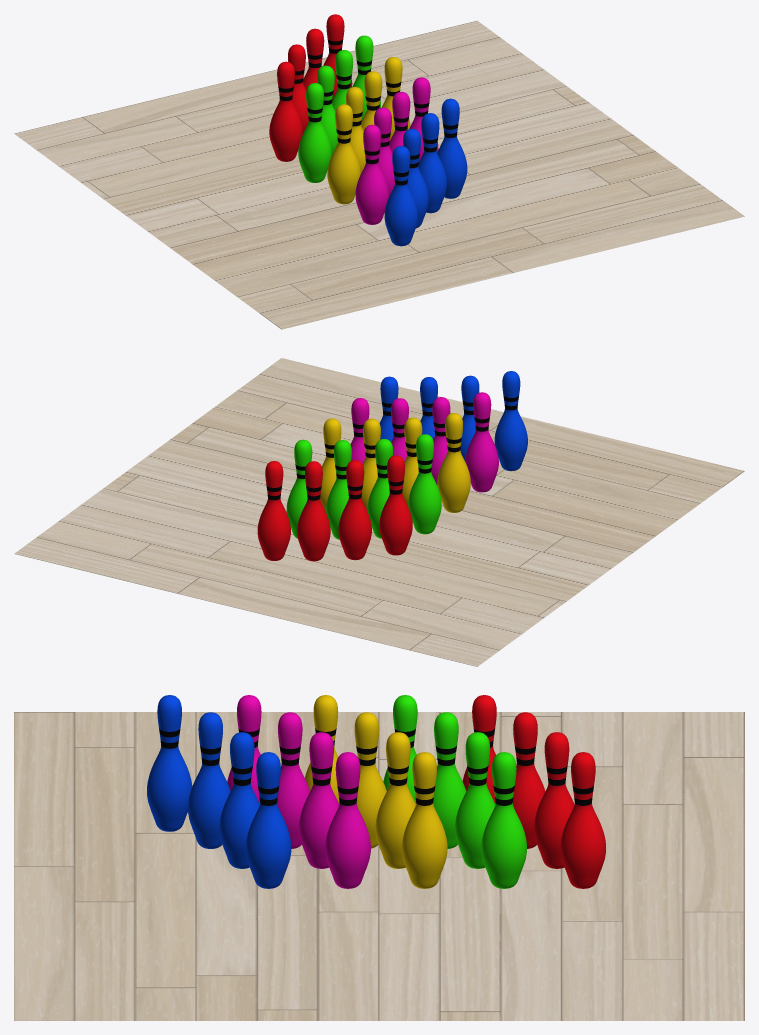
Rendered from colorful-bowling-pin.glb.
3 renders of one model, top to bottom at view 1: azimuth 30°, elevation 25°; view 2: azimuth 150°, elevation 25°; view 3: azimuth 270°, elevation 25°, orthographic. The views are drawn at different scales.
Visible parts, largest first — view 1: Material_014-material, Material_013-material, Material_008-material, Material_011-material, Material_009-material, Material_010-material, Material_013-material_3, Material_013-material_2, Material_013-material_1, Material_009-material_1, Material_011-material_1, Material_008-material_1 (+9 smaller); view 2: Material_014-material, Material_008-material, Material_008-material_3, Material_008-material_1, Material_008-material_2, Material_013-material, Material_009-material, Material_010-material, Material_011-material, Material_009-material_2, Material_009-material_1, Material_009-material_3 (+9 smaller); view 3: Material_014-material, Material_011-material_3, Material_009-material_3, Material_010-material_3, Material_013-material_3, Material_008-material_3, Material_013-material, Material_013-material_1, Material_008-material_2, Material_013-material_2, Material_009-material_2, Material_010-material_2 (+9 smaller).
Part boxes in pixels (x1,y1,x2,y2): Material_014-material: [14, 20, 744, 329]; Material_013-material: [384, 146, 417, 246]; Material_008-material: [269, 61, 302, 161]; Material_011-material: [355, 124, 388, 224]; Material_009-material: [298, 83, 331, 182]; Material_010-material: [327, 104, 360, 204]; Material_013-material_3: [437, 98, 467, 198]; Material_013-material_2: [418, 113, 446, 213]; Material_013-material_1: [403, 128, 428, 228]; Material_009-material_1: [317, 65, 337, 155]; Material_011-material_1: [374, 107, 394, 196]; Material_008-material_1: [288, 44, 308, 133]; Material_014-material: [14, 358, 744, 666]; Material_008-material: [379, 455, 412, 555]; Material_008-material_3: [257, 461, 290, 560]; Material_008-material_1: [338, 460, 371, 560]; Material_008-material_2: [297, 461, 330, 561]; Material_013-material: [494, 371, 527, 471]; Material_009-material: [408, 434, 441, 534]; Material_010-material: [437, 413, 470, 512]; Material_011-material: [465, 392, 498, 492]; Material_009-material_2: [326, 440, 351, 539]; Material_009-material_1: [367, 439, 393, 538]; Material_009-material_3: [286, 439, 312, 538]; Material_014-material: [14, 712, 744, 1020]; Material_011-material_3: [325, 752, 370, 888]; Material_009-material_3: [481, 752, 526, 888]; Material_010-material_3: [402, 752, 447, 888]; Material_013-material_3: [245, 752, 291, 888]; Material_008-material_3: [560, 752, 605, 888]; Material_013-material: [147, 695, 192, 831]; Material_013-material_1: [188, 712, 230, 848]; Material_008-material_2: [534, 732, 574, 868]; Material_013-material_2: [219, 732, 259, 868]; Material_009-material_2: [455, 732, 495, 868]; Material_010-material_2: [375, 732, 415, 868].
Bounding box in the file's own units: 13.33 × 2.69 × 13.33.
Materials: 11 (1 with a texture image).
